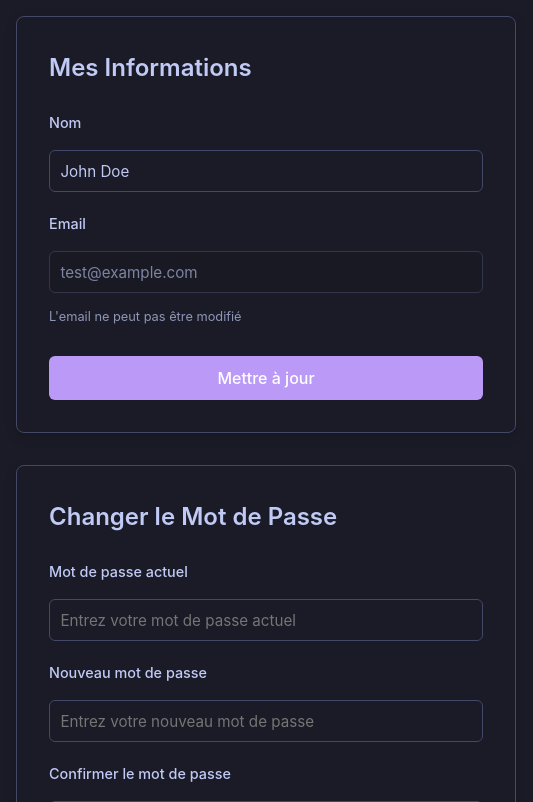
Test case: UserProfile › should disable update button while updating
Click the button "Mettre à jour": coordinates (266, 378) 49,356 -> 483,400
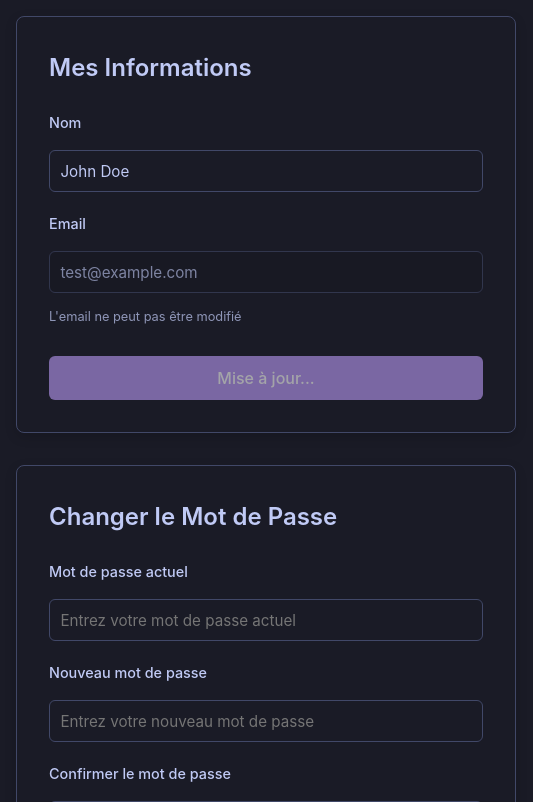
Expected: the button "Mise à jour..." is disabled, 49,356 -> 483,400
